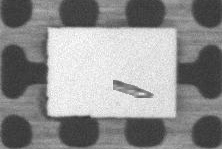DIE_INK: (161, 49, 222, 68)
